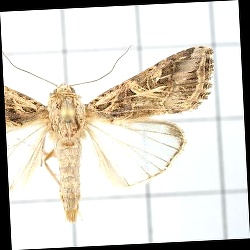Spodoptera litura: (6, 44, 218, 222)
